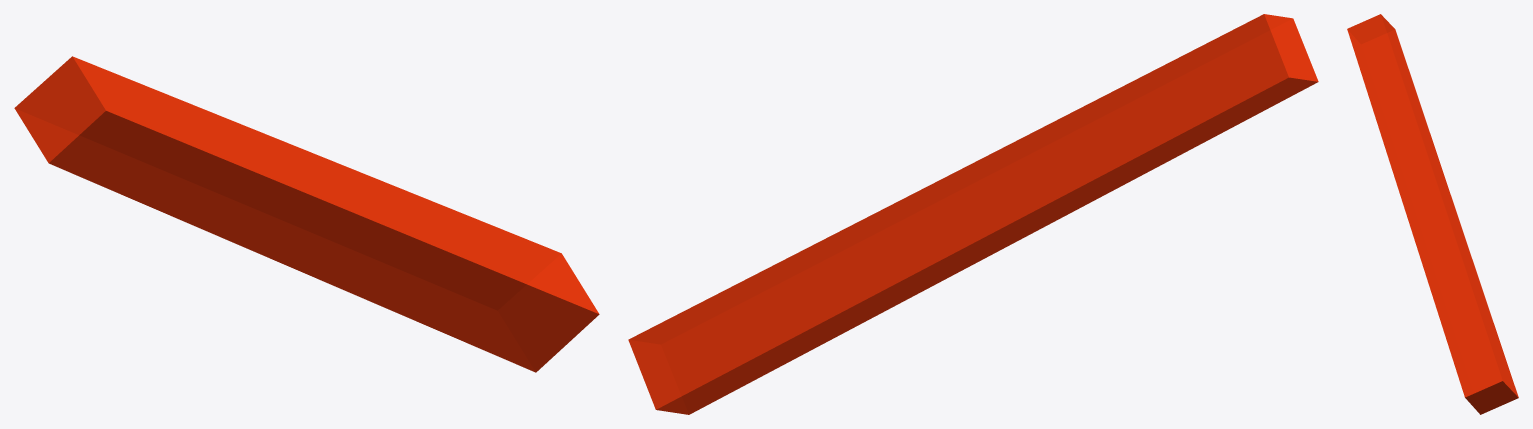
The model's file is Event_421364160_EBrechit_29.fbx.
3 renders of one model, left to right at view 1: azimuth 30°, elevation 25°; view 2: azimuth 150°, elevation 25°; view 3: azimuth 270°, elevation 25°, orthographic. The views are drawn at different scales.
Visible parts, largest first — view 1: Model; view 2: Model; view 3: Model.
Part boxes in pixels (box(x1,y1,x2,y2)): Model: box(14, 56, 599, 372); Model: box(628, 14, 1318, 414); Model: box(1347, 14, 1518, 414).
Size of the model in its own units: 0.5574 by 0.4286 by 0.2534.
